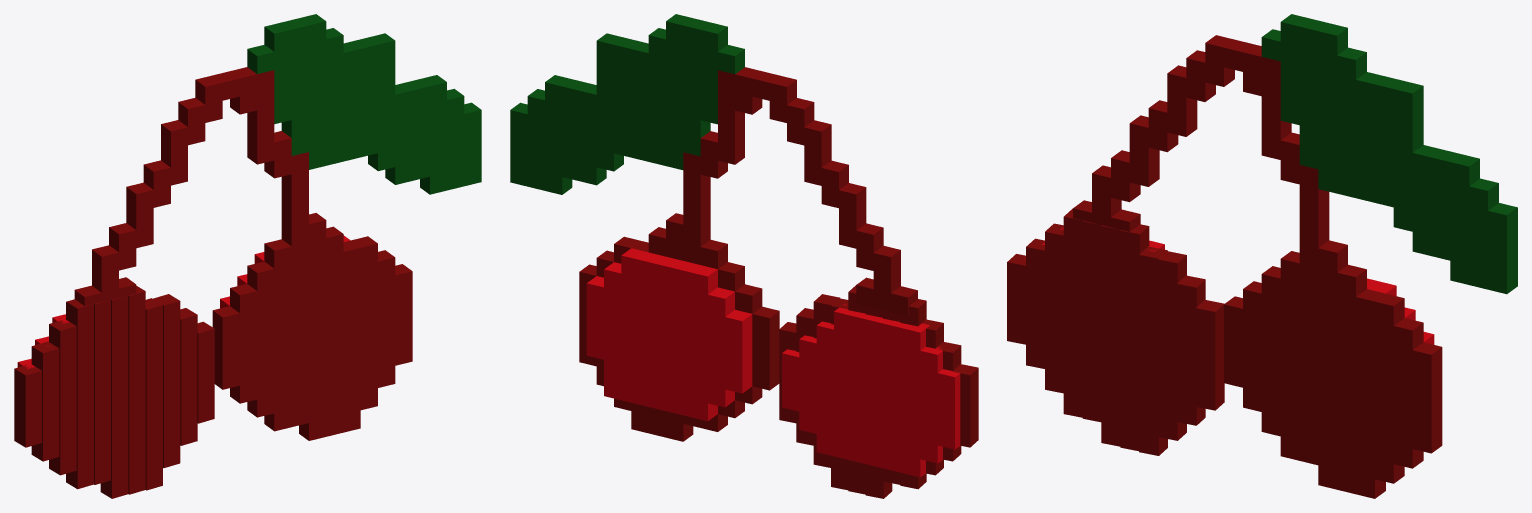
File: cherry.glb
3 views of the same model, side by side, from view 1: azimuth 30°, elevation 25°; view 2: azimuth 150°, elevation 25°; view 3: azimuth 330°, elevation 25° (orthographic). The views are drawn at different scales.
Parts seen in each view (by area): view 1: mesh (×35); view 2: mesh (×48); view 3: mesh (×56).
Boxes of the visible parts, <box> form: mesh (×35): <box>14,14,429,447</box>; mesh (×48): <box>545,14,978,395</box>; mesh (×56): <box>1120,14,1517,468</box>.
Size of the model in its own units: 1.66 by 1.47 by 0.1303.
3 materials, 3 textured.
